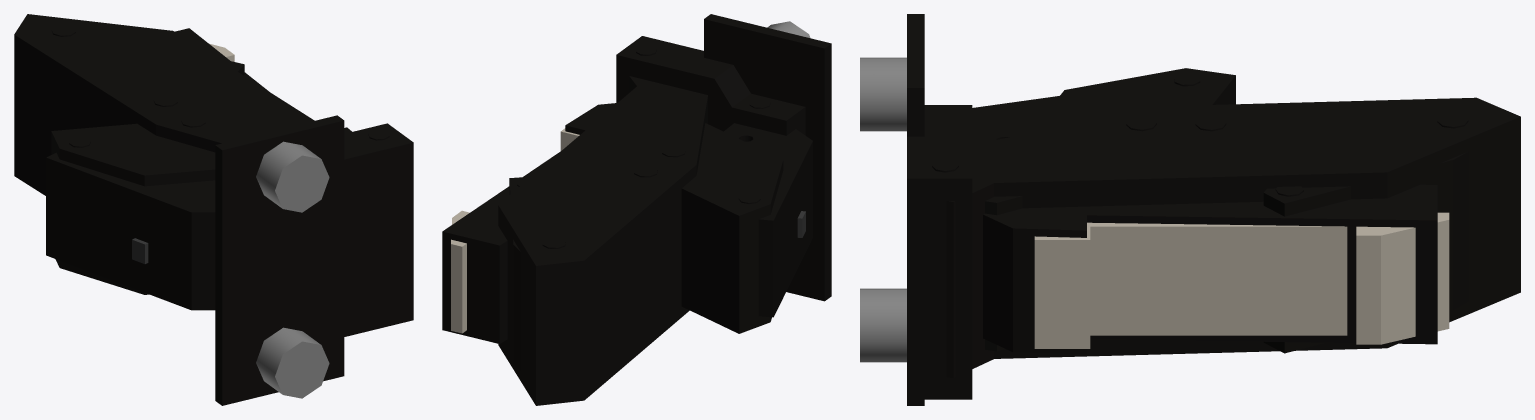
3 renders of one model, left to right at view 1: azimuth 30°, elevation 25°; view 2: azimuth 150°, elevation 25°; view 3: azimuth 270°, elevation 25°, orthographic. The views are drawn at different scales.
Parts seen in each view (by area): view 1: bau0085793888-1, bau0082118369-1, bau0082109884-1, bau0082071794-1, bau0082065270-1; view 2: bau0082118369-1, bau0085793888-1, bau0082071794-1, bau0082109884-1, bau0082065270-1, bau0019426112-1, bau0082072085-1; view 3: bau0082118369-1, bau0019426112-1, bau0085793888-1, bau0082065270-1, bau0082071794-1, bau0082072085-1, bau0082109884-1.
Part boxes in pixels (<box>): bau0085793888-1: <box>215,115,413,405</box>; bau0082118369-1: <box>14,14,314,195</box>; bau0082109884-1: <box>46,152,215,310</box>; bau0082071794-1: <box>51,123,215,294</box>; bau0082065270-1: <box>175,28,351,133</box>; bau0082118369-1: <box>498,76,707,405</box>; bau0085793888-1: <box>616,14,831,301</box>; bau0082071794-1: <box>681,123,783,333</box>; bau0082109884-1: <box>724,123,812,317</box>; bau0082065270-1: <box>442,103,616,343</box>; bau0019426112-1: <box>451,128,579,333</box>; bau0082072085-1: <box>509,176,530,370</box>; bau0082118369-1: <box>946,97,1520,377</box>; bau0019426112-1: <box>1034,212,1449,348</box>; bau0085793888-1: <box>860,14,972,405</box>; bau0082065270-1: <box>983,184,1437,354</box>; bau0082071794-1: <box>985,68,1235,351</box>; bau0082072085-1: <box>1263,152,1468,353</box>; bau0082109884-1: <box>972,96,1059,144</box>.
Size of the model in its own units: 46.67 by 44 by 82.9.
